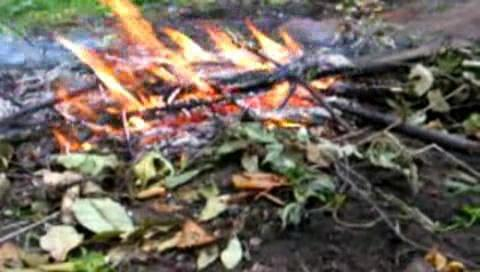fire: (65, 12, 325, 125)
